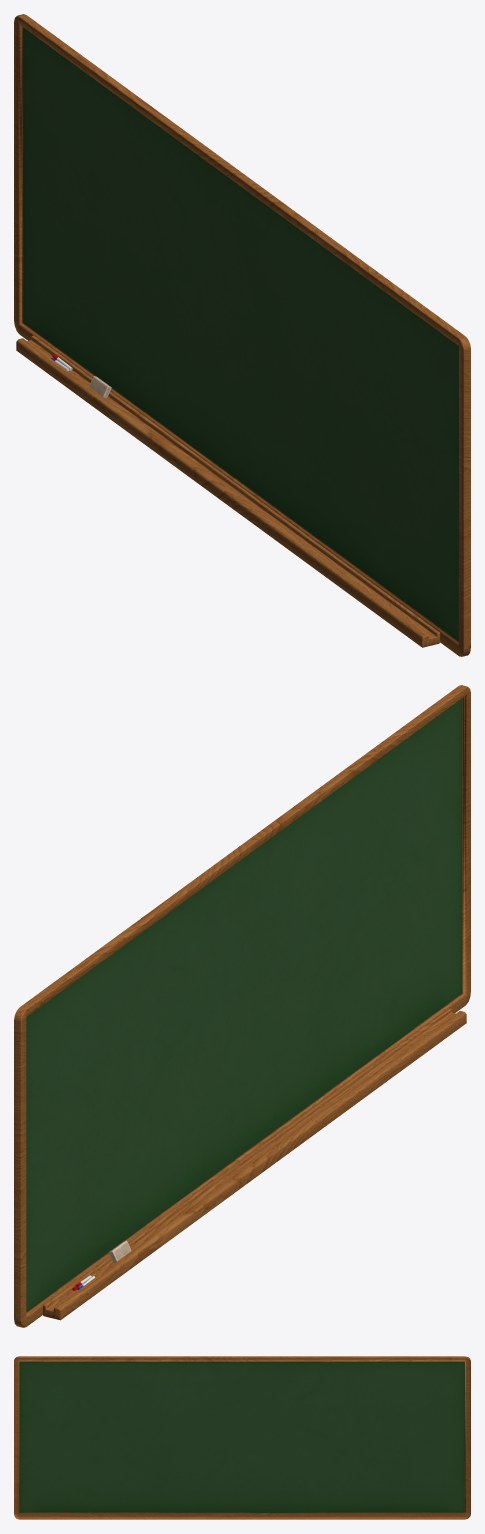
File: BoardA.fbx
The picture shows the model from 3 angles, top to bottom: view 1: azimuth 30°, elevation 25°; view 2: azimuth 150°, elevation 25°; view 3: azimuth 270°, elevation 25°; orthographic projection. The views are drawn at different scales.
Visible parts, largest first — view 1: BoardA; view 2: BoardA; view 3: BoardA.
Boxes of the visible parts, x1=… form: BoardA: x1=14, y1=14, x2=470, y2=656; BoardA: x1=14, y1=685, x2=470, y2=1327; BoardA: x1=14, y1=1356, x2=470, y2=1519.
Size of the model in its own units: 12.79 by 150 by 384.
